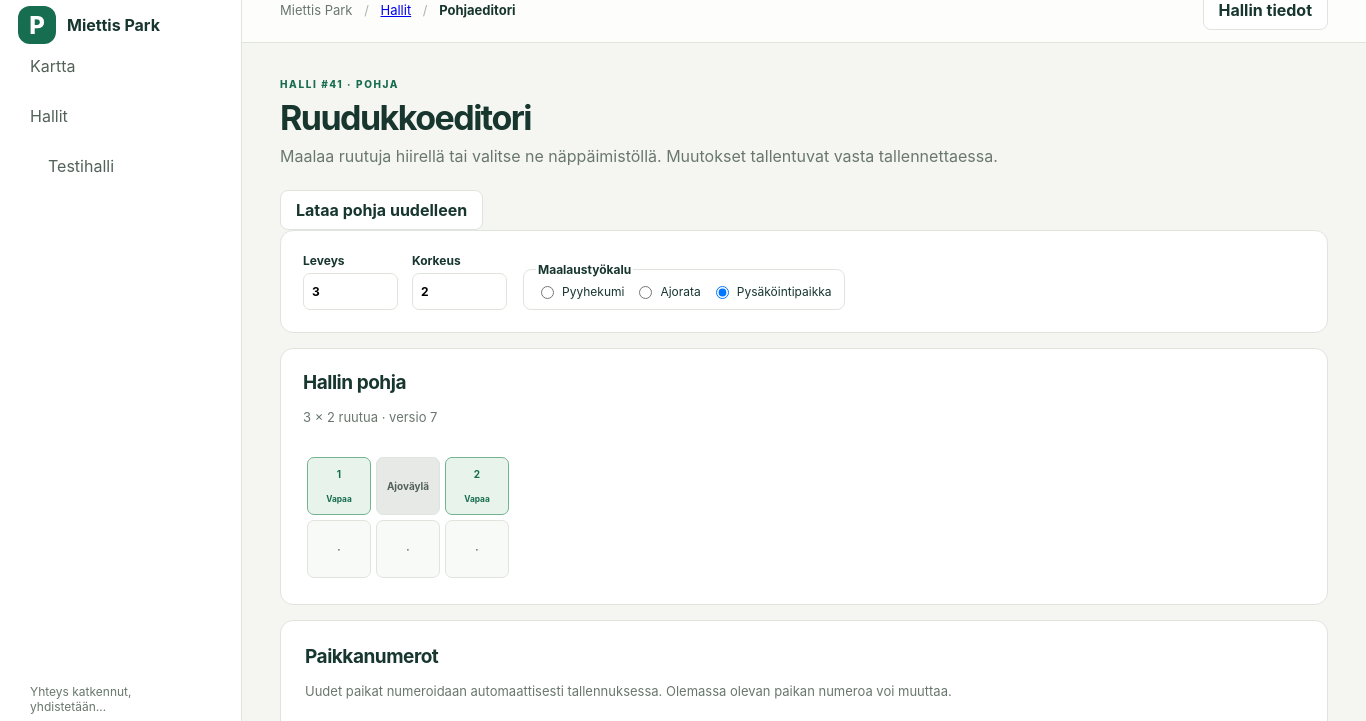
ruudukkoeditori › shrinks the grid, computes exact removed IDs, and sends an optimistic version
Replace the text in the number field named "Ruudukon leveys" with "2" at [350, 292], box x1=303 y1=273 x2=398 y2=310
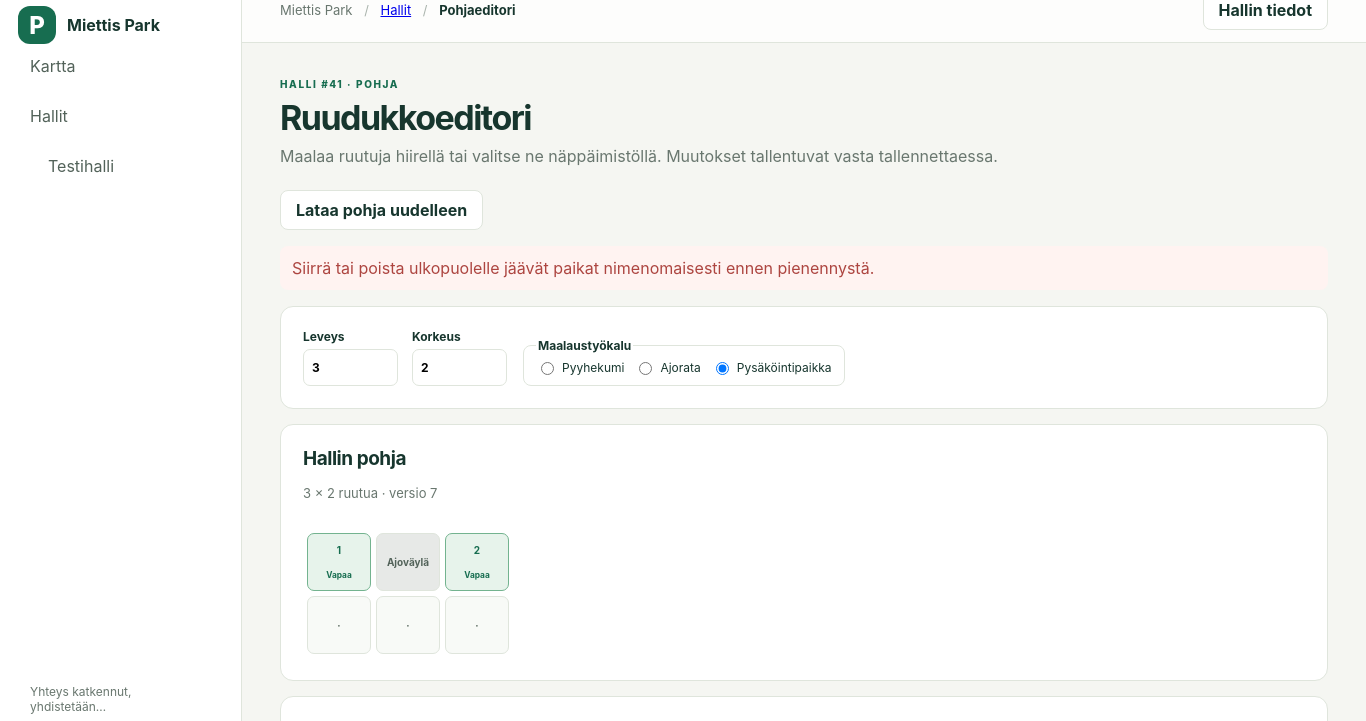
Expected: the number of cells is 6, x1=307 y1=533 x2=371 y2=591; x1=376 y1=533 x2=440 y2=591; x1=445 y1=533 x2=509 y2=591; x1=307 y1=596 x2=371 y2=654; x1=376 y1=596 x2=440 y2=654; x1=445 y1=596 x2=509 y2=654
Expected: the message "Siirrä tai poista ulkopuolelle jäävät paikat nimenomaisesti ennen pienennystä." is shown, x1=280 y1=246 x2=1328 y2=290
Click the radio button labelled "Pyyhekumi" at [548, 368], box x1=541 y1=362 x2=554 y2=375
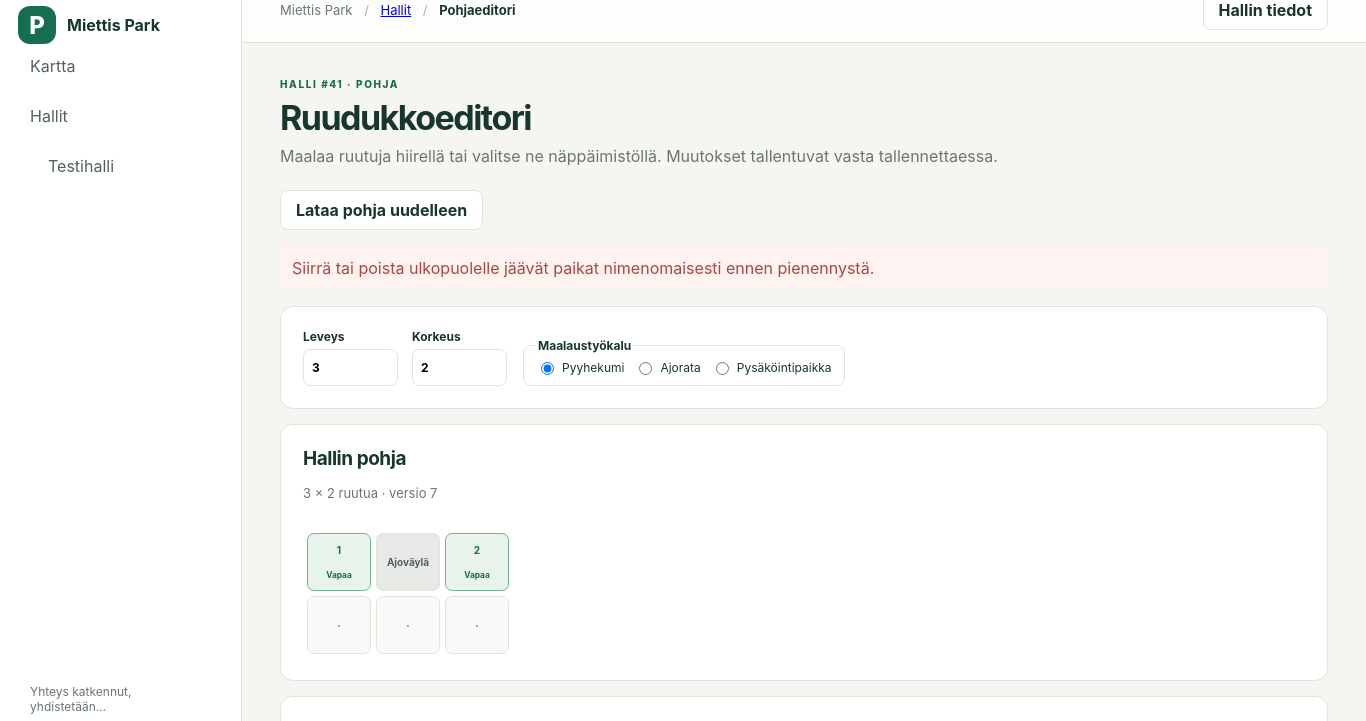
Click the cell "2 Vapaa" at [477, 562], box x1=445 y1=533 x2=509 y2=591
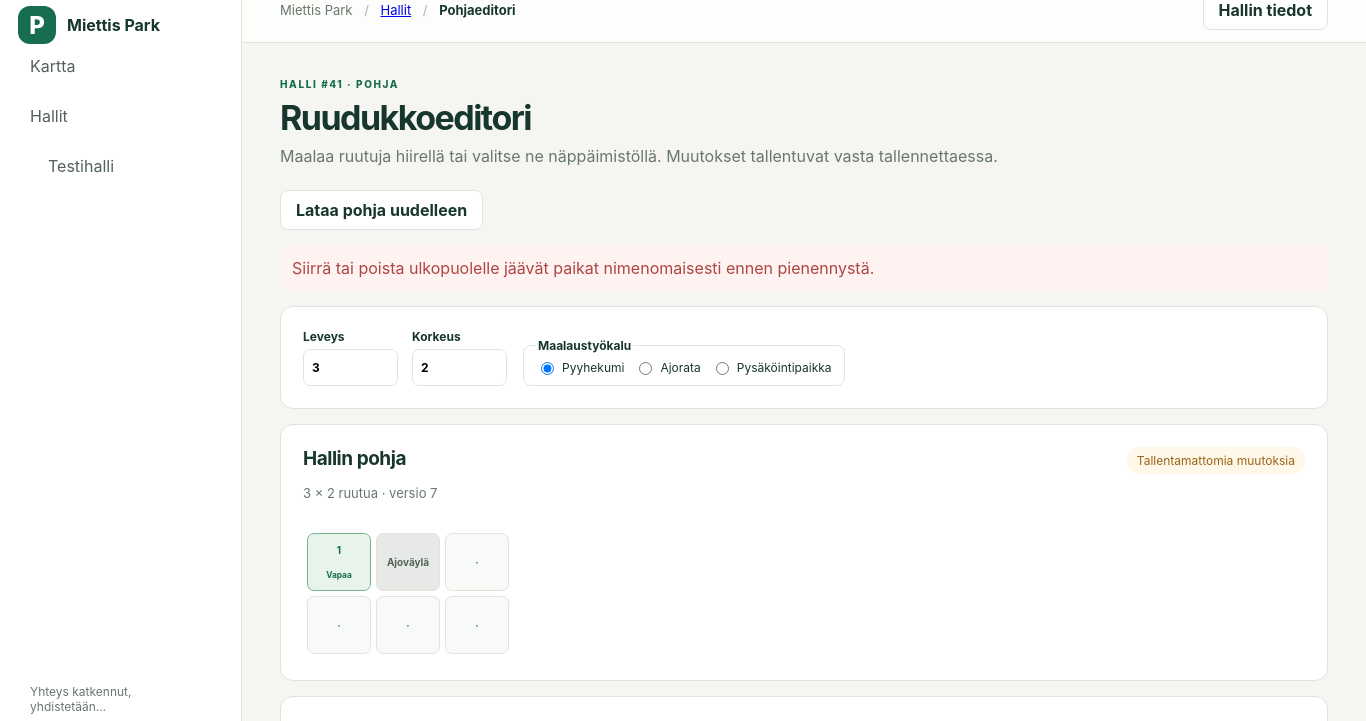
Replace the text in the number field named "Ruudukon leveys" with "2" at [350, 368], box x1=303 y1=349 x2=398 y2=386
(page scrolled)
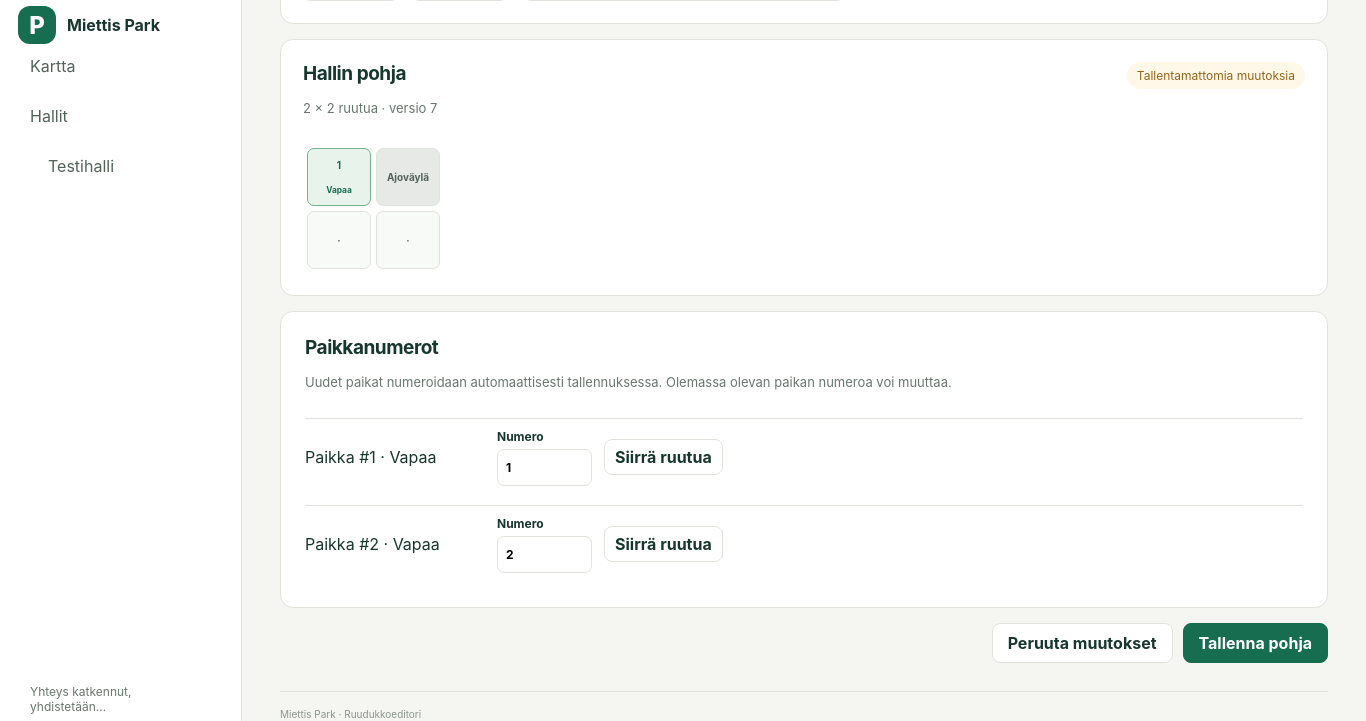
Expected: the number of cells is 4, x1=307 y1=148 x2=371 y2=206; x1=376 y1=148 x2=440 y2=206; x1=307 y1=211 x2=371 y2=269; x1=376 y1=211 x2=440 y2=269
Click the button "Tallenna pohja" at [1255, 643], box x1=1182 y1=623 x2=1328 y2=663
(page scrolled)
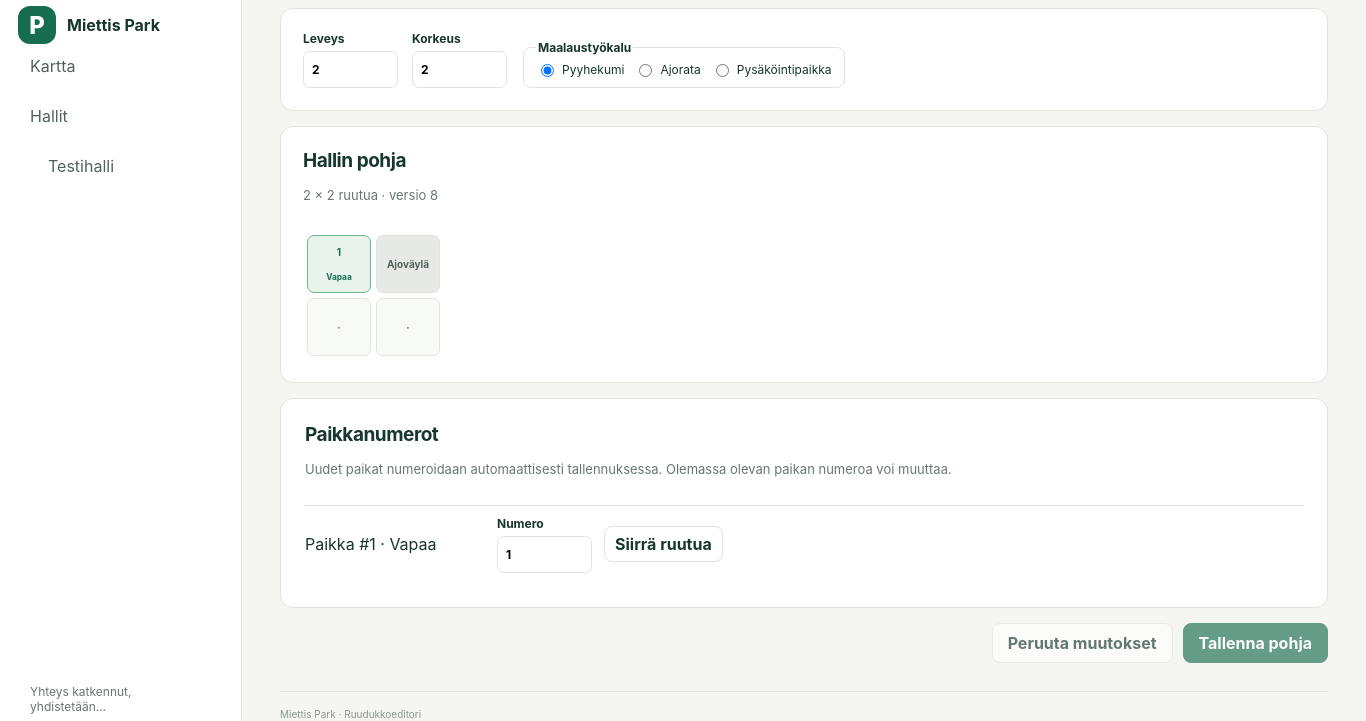
Expected: the text "Tallentamattomia muutoksia" is gone
